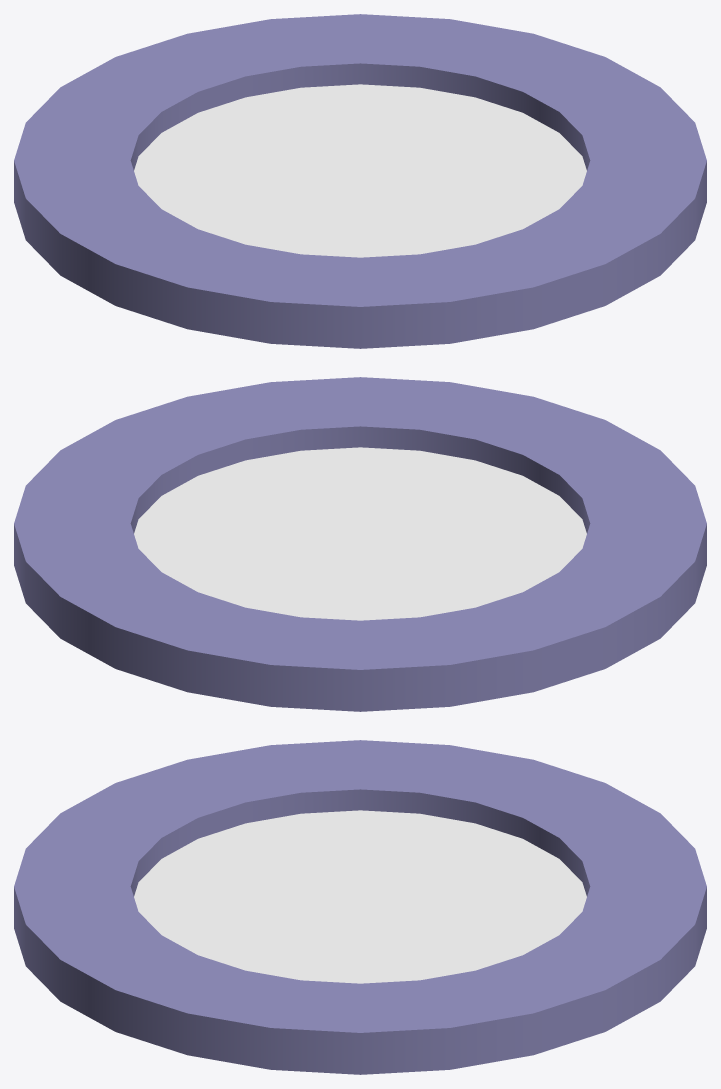
File: filledDisk.fbx
The picture shows the model from 3 angles, top to bottom: view 1: azimuth 30°, elevation 25°; view 2: azimuth 150°, elevation 25°; view 3: azimuth 270°, elevation 25°; orthographic projection.
Visible parts, largest first — view 1: window_round; view 2: window_round; view 3: window_round.
Part boxes in pixels (x1=…): window_round: x1=14, y1=14, x2=706, y2=348; window_round: x1=14, y1=377, x2=706, y2=711; window_round: x1=14, y1=740, x2=706, y2=1074.
Bounding box in the file's own units: 3 × 0.2 × 3.
